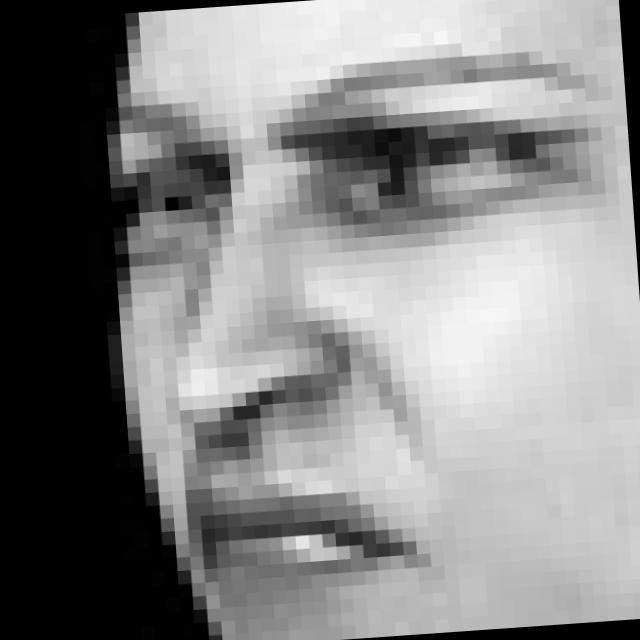disgust: (127, 39, 634, 640)
